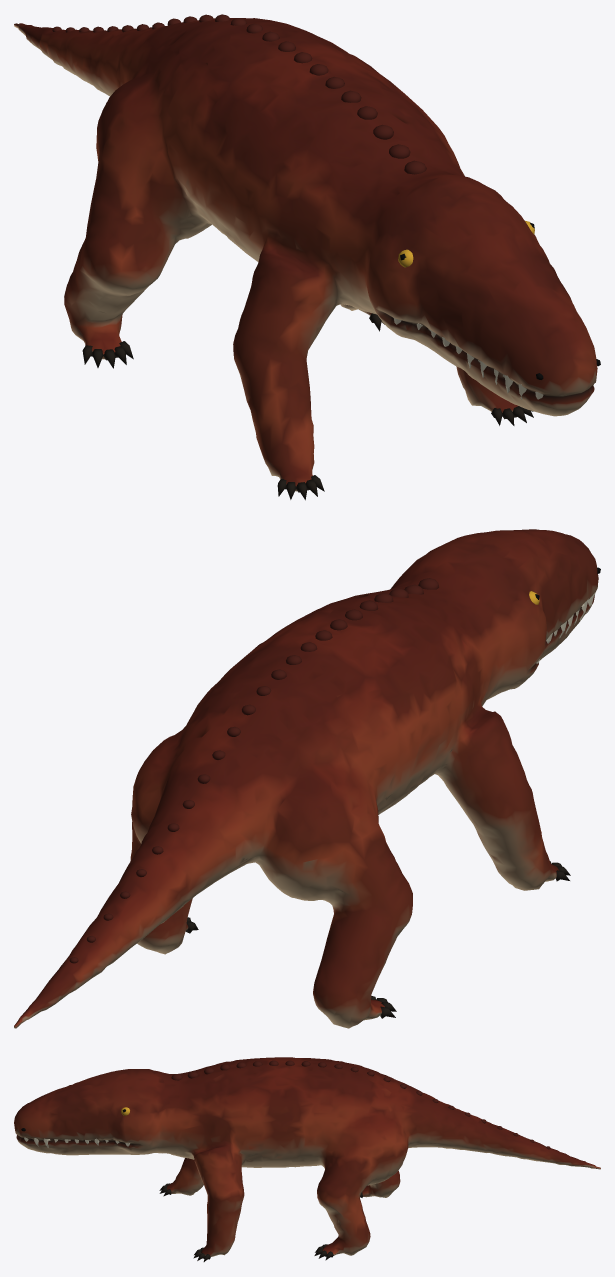
The model's file is Erythrosuchus.fbx.
3 views of the same model, one above another, from view 1: azimuth 30°, elevation 25°; view 2: azimuth 150°, elevation 25°; view 3: azimuth 270°, elevation 25° (orthographic). The views are drawn at different scales.
Visible parts, largest first — view 1: Erythrosuchus; view 2: Erythrosuchus; view 3: Erythrosuchus.
Part boxes in pixels (x1=…): Erythrosuchus: x1=14, y1=14, x2=600, y2=500; Erythrosuchus: x1=14, y1=529, x2=600, y2=1028; Erythrosuchus: x1=14, y1=1057, x2=600, y2=1261.
Size of the model in its own units: 0.5476 by 0.5685 by 1.82.
